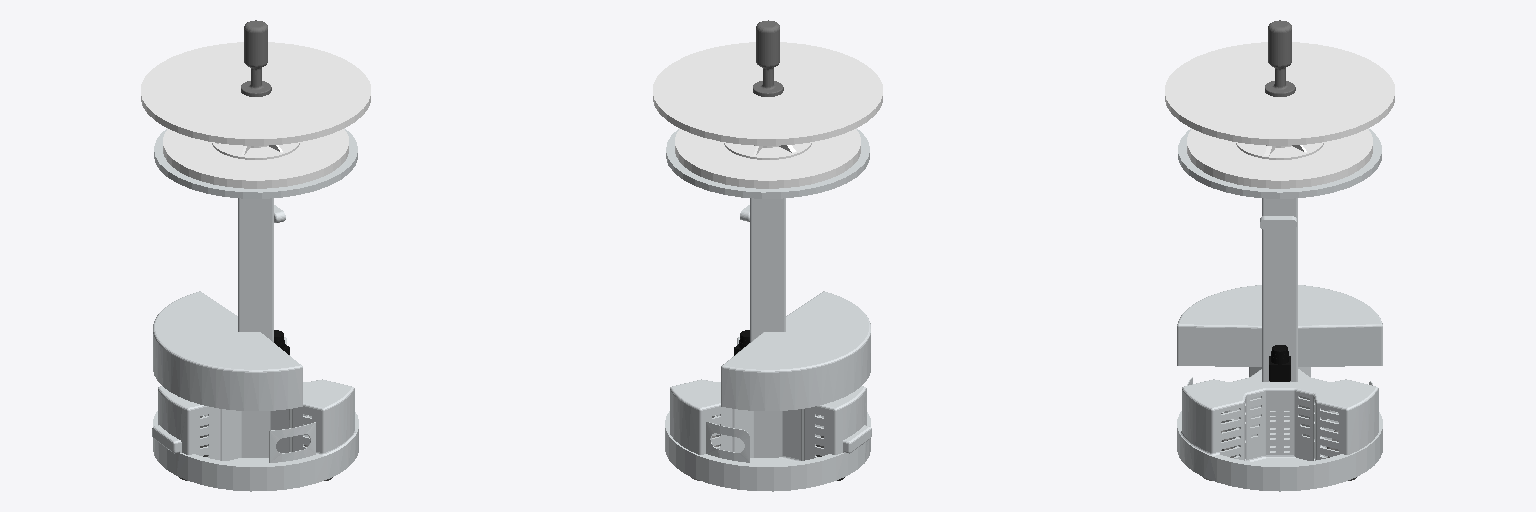
URDF robot description (robotino_description):
<?xml version="1.0" encoding="utf-8"?>
<robot name="robotino_description">

  <!-- Enlace ficticio proyectado a ras de suelo -->
  <link name="base_footprint"/>

  <!-- Unión que eleva el robot 6 cm desde el suelo -->
  <joint name="base_footprint_joint" type="fixed">
    <parent link="base_footprint"/>
    <child link="base_link"/>
    <origin xyz="0 0 0.06" rpy="0 0 0"/>
  </joint>

  <!-- Enlace central del robot -->
  <link name="base_link"/>

  <!-- Unión entre base_link y el chasis 3D -->
  <joint name="chasis_joint" type="fixed">
    <parent link="base_link"/>
    <child link="chasis_link"/>
    <origin xyz="0 0 0" rpy="0 0 0"/>
  </joint>

  <link name="chasis_link">
    <inertial>
      <!-- Centro de masa en la base del chasis -->
      <origin xyz="-0.0400344784602261 6.91025332739958E-06 0.01" rpy="0 0 0" />
      <mass value="18.5" />
      <!-- Inercia teórica real para un cilindro de 18.5kg, r=0.2325m, h=0.3m -->
      <inertia ixx="0.389" ixy="-0.000110674822365826" ixz="0.00109144664642708" iyy="0.389" iyz="1.25680082227373E-05" izz="0.5" />
    </inertial>
    <visual>
      <origin xyz="0 0 0" rpy="0 0 0" />
      <geometry>
        <mesh filename="package://robotino_description/meshes/chasis_link.STL" />
      </geometry>
      <material name="">
        <color rgba="0.898039215686275 0.917647058823529 0.929411764705882 1" />
      </material>
    </visual>
    <collision>
      <origin xyz="0 0 0.17" rpy="0 0 0" />
      <geometry>
        <cylinder radius="0.2325" length="0.2" />
      </geometry>
    </collision>
  </link>

  <link name="rueda_link">
    <inertial>
      <origin xyz="-2.05967388977601E-10 1.31737952577954E-10 -0.000273477957212588" rpy="0 0 0" />
      <mass value="0.498106960399148" />
      <inertia ixx="0.000256159949378851" ixy="5.34153087590594E-14" ixz="-2.02762130273749E-13" iyy="0.000256159949082368" iyz="-5.17902094775757E-13" izz="0.000419607620337151" />
    </inertial>
    <visual>
      <origin xyz="0 0 0" rpy="0 0 0" />
      <geometry>
        <mesh filename="package://robotino_description/meshes/rueda_link.STL" />
      </geometry>
      <material name="">
        <color rgba="0.298039215686275 0.298039215686275 0.298039215686275 1" />
      </material>
    </visual>
    <collision>
      <origin xyz="0 0 0" rpy="0 0 0" />
      <geometry>
        <cylinder radius="0.060" length="0.035" />
      </geometry>
    </collision>
  </link>

  <joint name="rueda_joint" type="continuous">
    <origin xyz="-0.17547 0 0" rpy="1.5708 0 -1.5708" />
    <parent link="chasis_link" />
    <child link="rueda_link" />
    <axis xyz="0 0 1" />
    <limit velocity="11.78" effort="10.24"/>
    <dynamics damping="0.1" friction="0.1" />
  </joint>

  <link name="izquierda_link">
    <inertial>
      <origin xyz="-1.26204602324265E-11 -9.7027663464519E-11 -0.000273478049972964" rpy="0 0 0" />
      <mass value="0.498106963165628" />
      <inertia ixx="0.000256159949494238" ixy="5.74017991234359E-14" ixz="4.18943850964693E-14" iyy="0.000256159949093497" iyz="3.9487960962047E-14" izz="0.000419607619799673" />
    </inertial>
    <visual>
      <origin xyz="0 0 0" rpy="0 0 0" />
      <geometry>
        <mesh filename="package://robotino_description/meshes/izquierda_link.STL" />
      </geometry>
      <material name="">
        <color rgba="0.498039215686275 0.498039215686275 0.498039215686275 1" />
      </material>
    </visual>
    <collision>
      <origin xyz="0 0 0" rpy="0 0 0" />
      <geometry>
        <cylinder radius="0.060" length="0.035" />
      </geometry>
    </collision>
  </link>

  <joint name="izquierda_joint" type="continuous">
    <origin xyz="0.087778 -0.15199 0" rpy="1.5708 0 0.5236" />
    <parent link="chasis_link" />
    <child link="izquierda_link" />
    <axis xyz="0 0 1" />
    <limit velocity="11.78" effort="10.24"/>
    <dynamics damping="0.1" friction="0.1" />
  </joint>

  <link name="derecha_link">
    <inertial>
      <origin xyz="-9.88611553731644E-11 9.65094384616783E-11 -0.000273478063246124" rpy="0 0 0" />
      <mass value="0.498106961392022" />
      <inertia ixx="0.00025615994928719" ixy="-5.11486271618792E-14" ixz="1.24456709180024E-13" iyy="0.000256159949293269" iyz="2.16307059888117E-13" izz="0.000419607620211318" />
    </inertial>
    <visual>
      <origin xyz="0 0 0" rpy="0 0 0" />
      <geometry>
        <mesh filename="package://robotino_description/meshes/derecha_link.STL" />
      </geometry>
      <material name="">
        <color rgba="0.498039215686275 0.498039215686275 0.498039215686275 1" />
      </material>
    </visual>
    <collision>
      <origin xyz="0 0 0" rpy="0 0 0" />
      <geometry>
        <cylinder radius="0.060" length="0.035" />
      </geometry>
    </collision>
  </link>

  <joint name="derecha_joint" type="continuous">
    <origin xyz="0.087778 0.15199 0" rpy="1.5708 0 2.618" />
    <parent link="chasis_link" />
    <child link="derecha_link" />
    <axis xyz="0 0 1" />
    <limit velocity="11.78" effort="10.24"/>
    <dynamics damping="0.1" friction="0.1" />
  </joint>

  <link name="palo_link">
    <inertial>
      <origin xyz="0 0 -0.08567" rpy="0 0 0" />
      <mass value="0.21547" />
      <inertia ixx="0.00775" ixy="0" ixz="0" iyy="0.00775" iyz="0" izz="0.00414" />
    </inertial>
    <visual>
      <origin xyz="0 0 0" rpy="0 0 0" />
      <geometry>
        <mesh filename="package://robotino_description/meshes/palo_link.STL" />
      </geometry>
      <material name="">
        <color rgba="0.898039215686275 0.917647058823529 0.929411764705882 1" />
      </material>
    </visual>
    <collision>
      <origin xyz="0 0 -0.283" rpy="0 0 0" />
      <geometry>
        <cylinder radius="0.100" length="0.566" />
      </geometry>
    </collision>
  </link>

  <joint name="palo_joint" type="fixed">
    <origin xyz="2.846E-05 0 0.695" rpy="0 0 0" />
    <parent link="chasis_link" />
    <child link="palo_link" />
    <axis xyz="0 0 0" />
  </joint>

  <link name="bandeja_peque_link">
    <inertial>
      <origin xyz="0 0 -0.01" rpy="0 0 0" />
      <mass value="0.04433" />
      <inertia ixx="0.00049" ixy="0" ixz="0" iyy="0.00049" iyz="0" izz="0.00097" />
    </inertial>
    <visual>
      <origin xyz="0 0 0" rpy="0 0 0" />
      <geometry>
        <mesh filename="package://robotino_description/meshes/bandeja_peque_link.STL" />
      </geometry>
      <material name="">
        <color rgba="1 1 1 1" />
      </material>
    </visual>
    <collision>
      <origin xyz="0 0 0" rpy="0 0 0" />
      <geometry>
        <!-- Reemplazamos el STL por un cilindro de radio y grosor aproximados -->
        <cylinder radius="0.10" length="0.01" />
      </geometry>
    </collision>
  </link>

  <joint name="bandeja_peque_joint" type="fixed">
    <origin xyz="2.846E-05 0 0.731" rpy="0 0 0" />
    <parent link="chasis_link" />
    <child link="bandeja_peque_link" />
    <axis xyz="0 0 0" />
  </joint>

  <link name="Luz_Link">
    <inertial>
      <origin xyz="0 0 -0.02158" rpy="0 0 0" />
      <mass value="0.03188" />
      <inertia ixx="0.000079" ixy="0" ixz="0" iyy="0.000079" iyz="0" izz="0.000011" />
    </inertial>
    <visual>
      <origin xyz="0 0 0" rpy="0 0 0" />
      <geometry>
        <mesh filename="package://robotino_description/meshes/Luz_Link.STL" />
      </geometry>
      <material name="">
        <color rgba="0.498039215686275 0.498039215686275 0.498039215686275 1" />
      </material>
    </visual>
    <collision>
      <origin xyz="0 0 0" rpy="0 0 0" />
      <geometry>
        <cylinder radius="0.05" length="0.10" />
      </geometry>
    </collision>
  </link>

  <joint name="Luz_joint" type="fixed">
    <origin xyz="2.846E-05 0 0.972" rpy="0 0 0" />
    <parent link="chasis_link" />
    <child link="Luz_Link" />
    <axis xyz="0 0 0" />
  </joint>

  <link name="bandeja_grande_Link">
    <inertial>
      <origin xyz="0 0 0" rpy="0 0 0" />
      <mass value="0.05436" />
      <inertia ixx="0.00091" ixy="0" ixz="0" iyy="0.00091" iyz="0" izz="0.00183" />
    </inertial>
    <visual>
      <origin xyz="0 0 0" rpy="0 0 0" />
      <geometry>
        <mesh filename="package://robotino_description/meshes/bandeja_grande_Link.STL" />
      </geometry>
      <material name="">
        <color rgba="1 1 1 1" />
      </material>
    </visual>
    <collision>
      <origin xyz="0 0 0" rpy="0 0 0" />
      <geometry>
        <cylinder radius="0.18" length="0.01" />
      </geometry>
    </collision>
  </link>

  <joint name="bandeja_grande_joint" type="fixed">
    <origin xyz="2.846E-05 0 0.849" rpy="0 0 0" />
    <parent link="chasis_link" />
    <child link="bandeja_grande_Link" />
    <axis xyz="0 0 0" />
  </joint>

  <link name="pieza_3D_Link">
    <inertial>
      <origin xyz="0 0 -0.00025" rpy="0 0 0" />
      <mass value="0.14365" />
      <inertia ixx="0.00038" ixy="0" ixz="0" iyy="0.00038" iyz="0" izz="0.00034" />
    </inertial>
    <visual>
      <origin xyz="0 0 0" rpy="0 0 0" />
      <geometry>
        <mesh filename="package://robotino_description/meshes/pieza_3D_Link.STL" />
      </geometry>
      <material name="">
        <color rgba="1 1 1 1" />
      </material>
    </visual>
    <collision>
      <origin xyz="0 0 0" rpy="0 0 0" />
      <geometry>
        <box size="0.05 0.05 0.05" />
      </geometry>
    </collision>
  </link>

  <joint name="pieza_3D_joint" type="fixed">
    <origin xyz="2.846E-05 0 0.78614" rpy="0 0 0" />
    <parent link="chasis_link" />
    <child link="pieza_3D_Link" />
    <axis xyz="0 0 0" />
  </joint>

  <link name="Camara_Link">
    <inertial>
      <origin xyz="0.0127395986753643 2.77555756156289E-17 0" rpy="0 0 0" />
      <mass value="0.131609662020586" />
      <inertia ixx="7.63333612889723E-05" ixy="1.3976043629696E-20" ixz="-8.47230895929246E-22" iyy="1.29032449508816E-05" iyz="4.25208397294619E-22" izz="7.66915760155178E-05" />
    </inertial>
    <visual>
      <origin xyz="0 0 0" rpy="0 0 0" />
      <geometry>
        <mesh filename="package://robotino_description/meshes/Camara_Link.STL" />
      </geometry>
      <material name="">
        <color rgba="0.898039215686275 0.917647058823529 0.929411764705882 1" />
      </material>
    </visual>
  </link>

  <joint name="Camara_joint" type="fixed">
    <origin xyz="0.026009 -0.0036139 0.5475" rpy="0 0 0" />
    <parent link="chasis_link" />
    <child link="Camara_Link" />
    <axis xyz="0 0 0" />
  </joint>

  <link name="LIDAR_Link">
    <inertial>
      <origin xyz="-2.77555756156289E-17 6.93889390390723E-18 -0.017064689560689" rpy="0 0 0" />
      <mass value="0.164254171277253" />
      <inertia ixx="8.96577522487542E-05" ixy="0" ixz="4.30221539918721E-21" iyy="8.96577522487542E-05" iyz="1.04076724762095E-20" izz="5.74312477731309E-05" />
    </inertial>
    <visual>
      <origin xyz="0 0 0" rpy="0 0 0" />
      <geometry>
        <mesh filename="package://robotino_description/meshes/LIDAR_Link.STL" />
      </geometry>
      <material name="">
        <color rgba="0.109803921568627 0.109803921568627 0.109803921568627 1" />
      </material>
    </visual>
  </link>

  <joint name="LIDAR_joint" type="fixed">
    <origin xyz="0.051009 0 0.217" rpy="0 0 0" />
    <parent link="chasis_link" />
    <child link="LIDAR_Link" />
    <axis xyz="0 0 0" />
  </joint>
</robot>

--- What the picture shows (computed from the rendered views, not written in the file) ---
The picture shows the robot from 3 angles, left to right: view 1: azimuth 30°, elevation 25°; view 2: azimuth 150°, elevation 25°; view 3: azimuth 270°, elevation 25°; orthographic projection.
Model robotino_description with 13 links and 12 joints (3 continuous, 9 fixed), rooted at base_footprint, posed every joint at zero.
Links seen in each view (by area): view 1: chasis_link, bandeja_grande_Link, palo_link, bandeja_peque_link, Luz_Link, pieza_3D_Link; view 2: chasis_link, bandeja_grande_Link, palo_link, bandeja_peque_link, Luz_Link, pieza_3D_Link; view 3: chasis_link, bandeja_grande_Link, palo_link, bandeja_peque_link, Luz_Link, pieza_3D_Link, LIDAR_Link.
Link boxes in pixels (x1,y1,x2,y2): chasis_link: [152, 291, 358, 491]; bandeja_grande_Link: [141, 42, 370, 145]; palo_link: [154, 128, 357, 342]; bandeja_peque_link: [163, 129, 348, 188]; Luz_Link: [241, 20, 271, 96]; pieza_3D_Link: [212, 142, 299, 159]; chasis_link: [665, 291, 871, 491]; bandeja_grande_Link: [653, 42, 882, 145]; palo_link: [666, 128, 869, 342]; bandeja_peque_link: [675, 129, 860, 188]; Luz_Link: [753, 20, 783, 96]; pieza_3D_Link: [724, 142, 811, 159]; chasis_link: [1177, 285, 1382, 491]; bandeja_grande_Link: [1165, 42, 1394, 145]; palo_link: [1178, 128, 1381, 381]; bandeja_peque_link: [1187, 129, 1372, 188]; Luz_Link: [1265, 20, 1295, 96]; pieza_3D_Link: [1236, 142, 1323, 159]; LIDAR_Link: [1269, 345, 1290, 381].
Bounding box of the posed robot: 0.5194 × 0.5195 × 1.09 m (x, y, z).
Meshes: 11 distinct files referenced, 11 mesh visuals loaded (11 binary STL).
